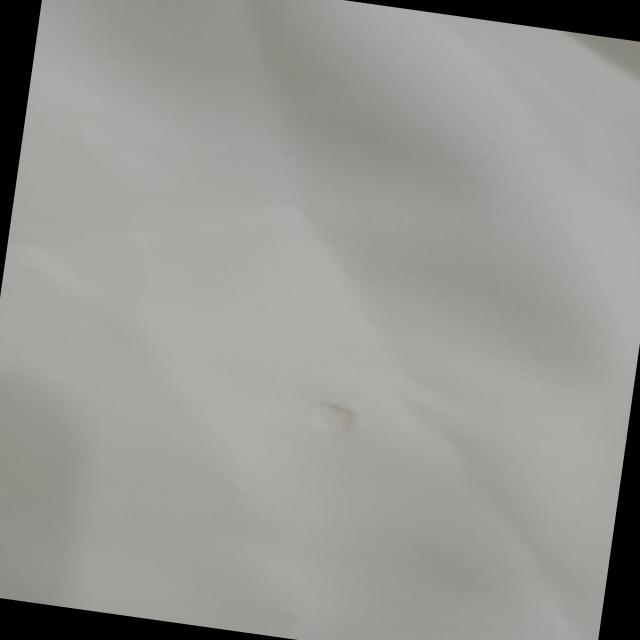stain: (287, 387, 377, 452)
